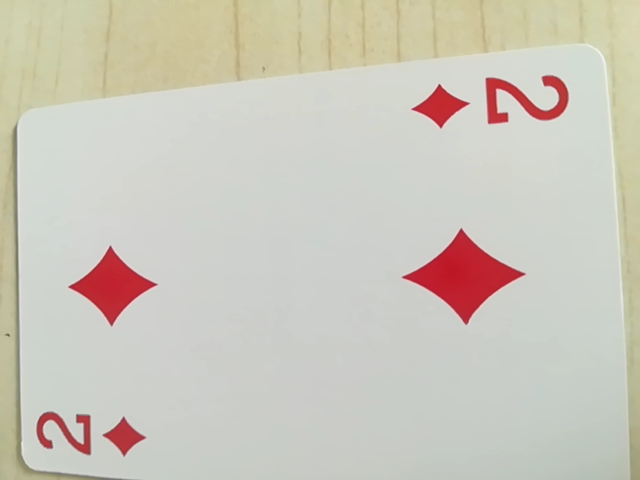fk 2: (416, 64, 571, 135), (24, 398, 157, 473)
